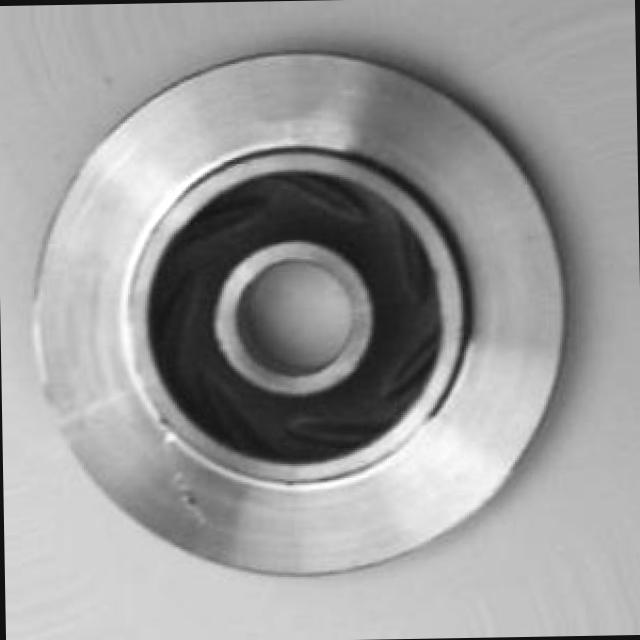Defect: (174, 476, 212, 525)
